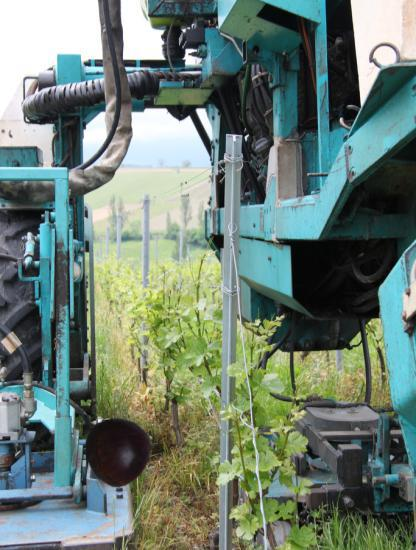Chestnut: (84, 418, 155, 489)
